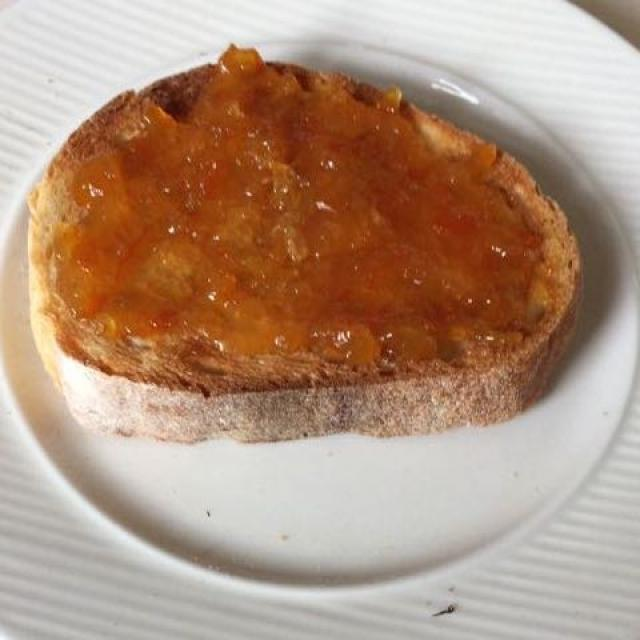bread: (39, 59, 578, 434)
jam: (56, 37, 565, 357)
